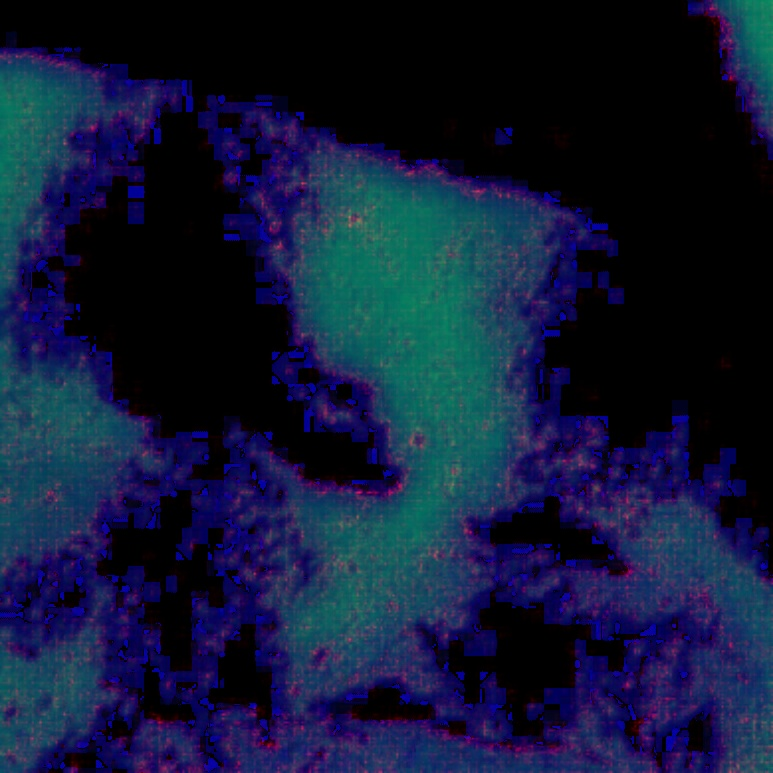rip_current: (246, 68, 614, 667)
